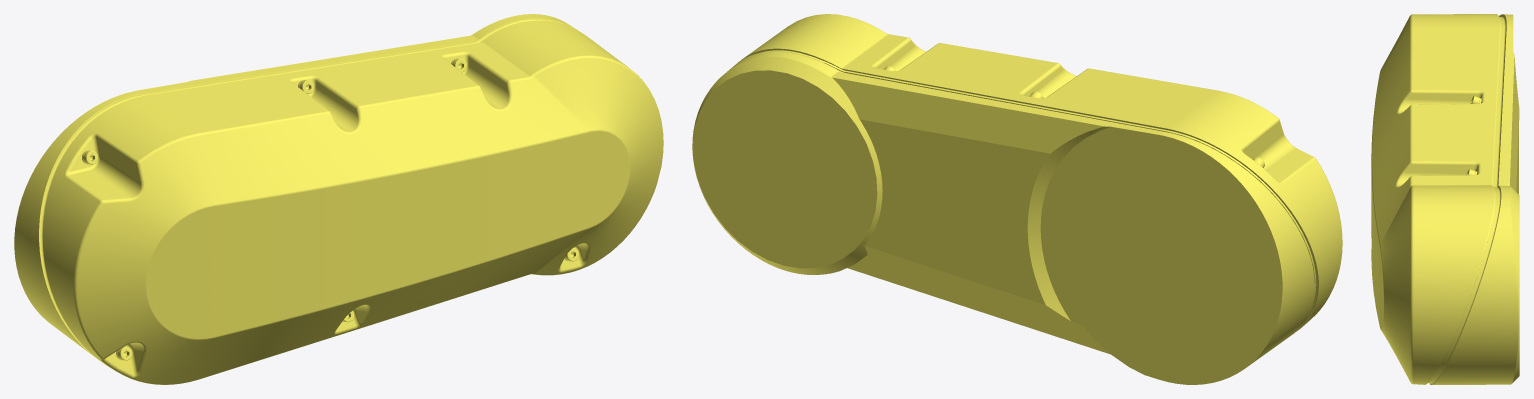
The picture shows the model from 3 angles, left to right: view 1: azimuth 30°, elevation 25°; view 2: azimuth 150°, elevation 25°; view 3: azimuth 270°, elevation 25°; orthographic projection. The views are drawn at different scales.
Parts seen in each view (by area): view 1: J2-ORI.SLDPRT; view 2: J2-ORI.SLDPRT; view 3: J2-ORI.SLDPRT.
Part boxes in pixels (left/top/right/bottom): J2-ORI.SLDPRT: left=14, top=14, right=663, bottom=384; J2-ORI.SLDPRT: left=692, top=14, right=1342, bottom=384; J2-ORI.SLDPRT: left=1371, top=14, right=1519, bottom=384.
Bounding box in the file's own units: 0.3514 × 0.14 × 0.0899.
